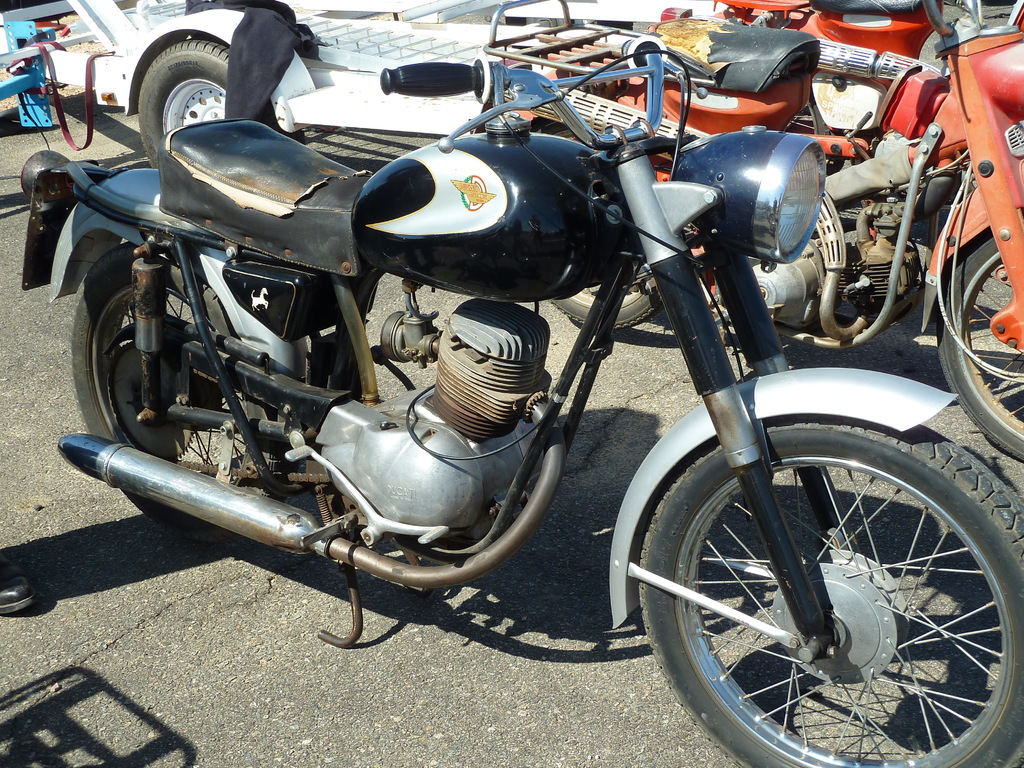Motorcycle: (462, 0, 1023, 463)
